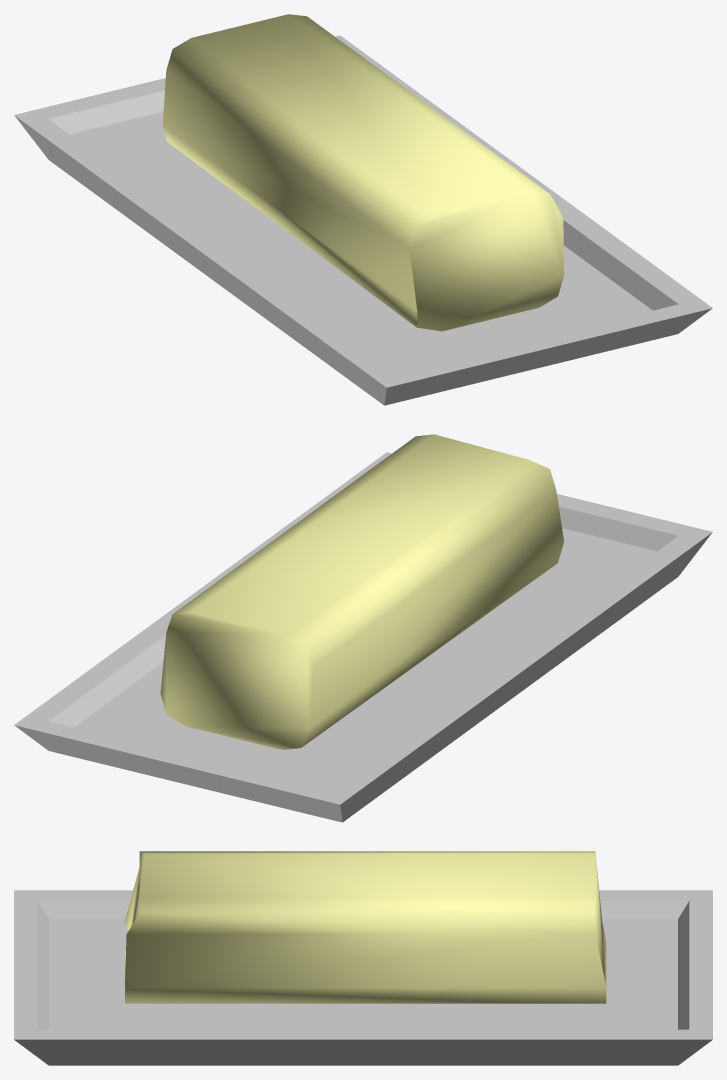
File: Butter_Dish_B.FBX
The picture shows the model from 3 angles, top to bottom: view 1: azimuth 30°, elevation 25°; view 2: azimuth 150°, elevation 25°; view 3: azimuth 270°, elevation 25°; orthographic projection. The views are drawn at different scales.
Visible parts, largest first — view 1: Butter_Dish; view 2: Butter_Dish; view 3: Butter_Dish.
Part boxes in pixels (<box>): Butter_Dish: <box>14,14,712,405</box>; Butter_Dish: <box>14,434,712,822</box>; Butter_Dish: <box>14,851,712,1065</box>.
Bounding box in the file's own units: 31.09 × 11.87 × 61.51.
